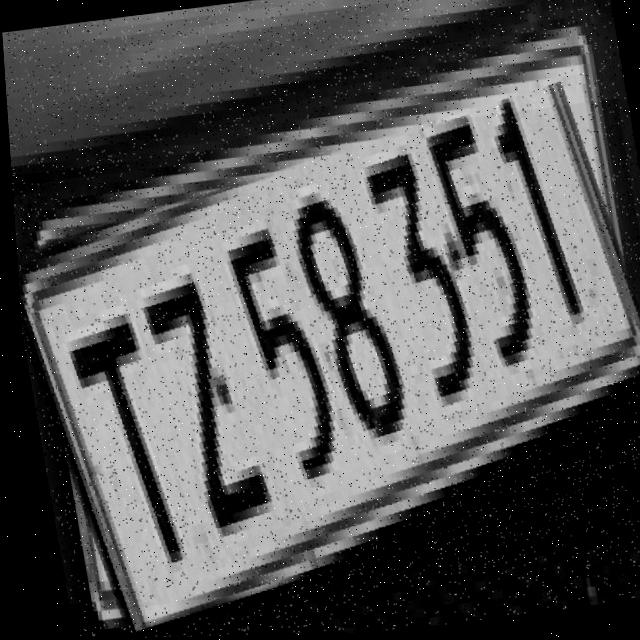LicensePlate: (6, 101, 640, 616)
